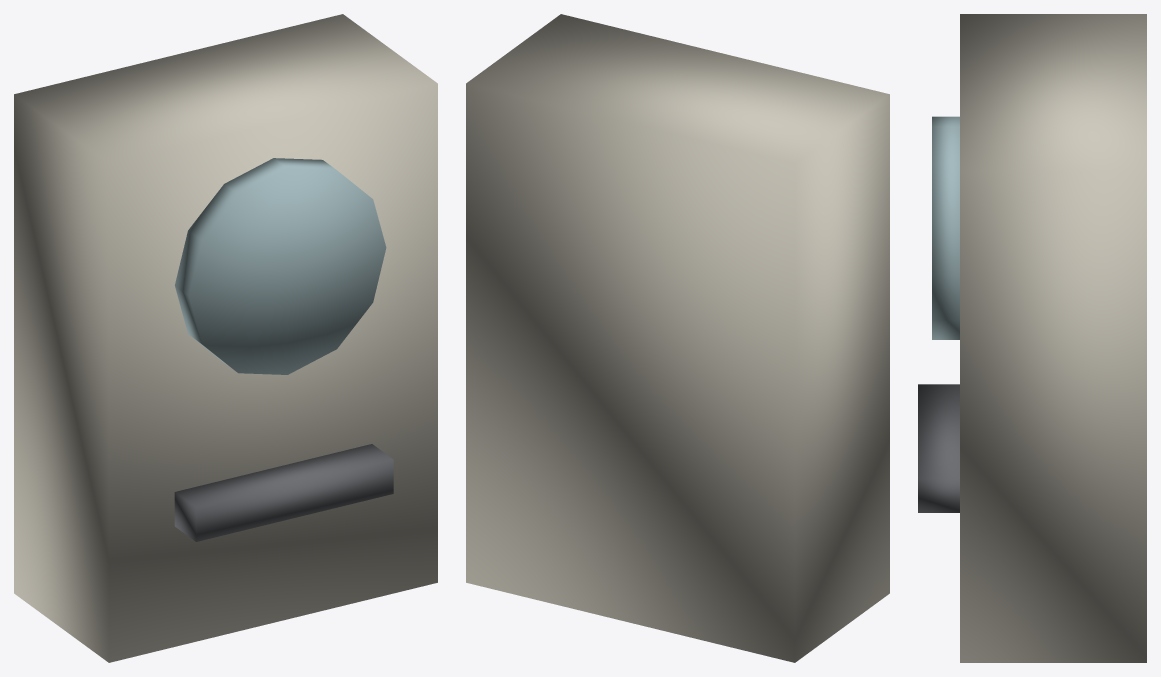
Rendered from factory_time_clock.glb.
The picture shows the model from 3 angles, left to right: view 1: azimuth 30°, elevation 25°; view 2: azimuth 150°, elevation 25°; view 3: azimuth 270°, elevation 25°; orthographic projection.
Visible parts, largest first — view 1: world; view 2: world; view 3: world.
Boxes of the visible parts, box(x1,y1,x2,y2) form: world: box(14, 14, 437, 662); world: box(466, 14, 889, 662); world: box(918, 14, 1146, 662).
Size of the model in its own units: 0.4 by 0.58 by 0.245.
